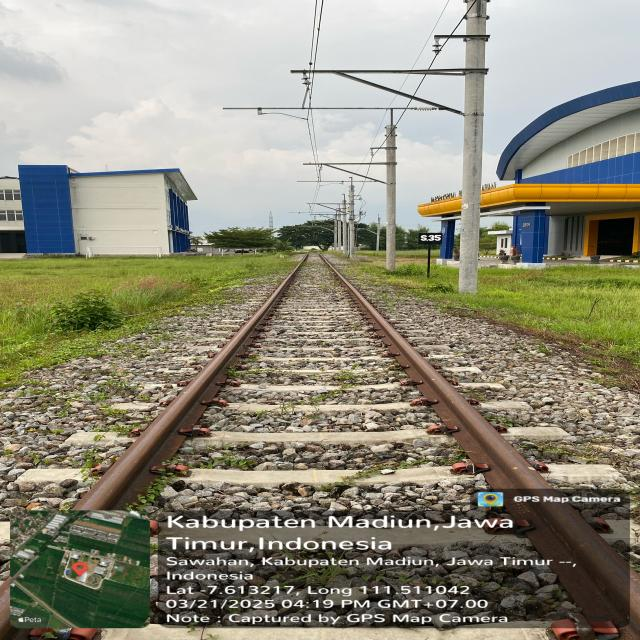rail-detection: (319, 255, 632, 626), (75, 256, 308, 509)
